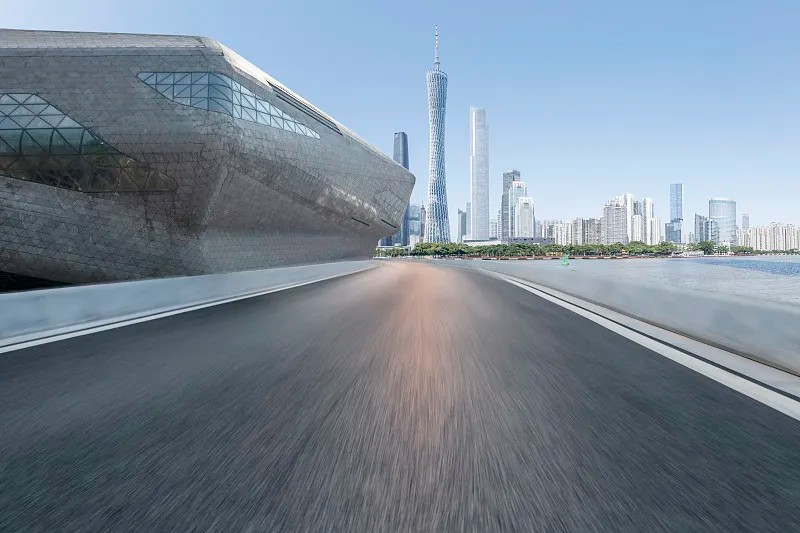Canton: (426, 20, 452, 248)
